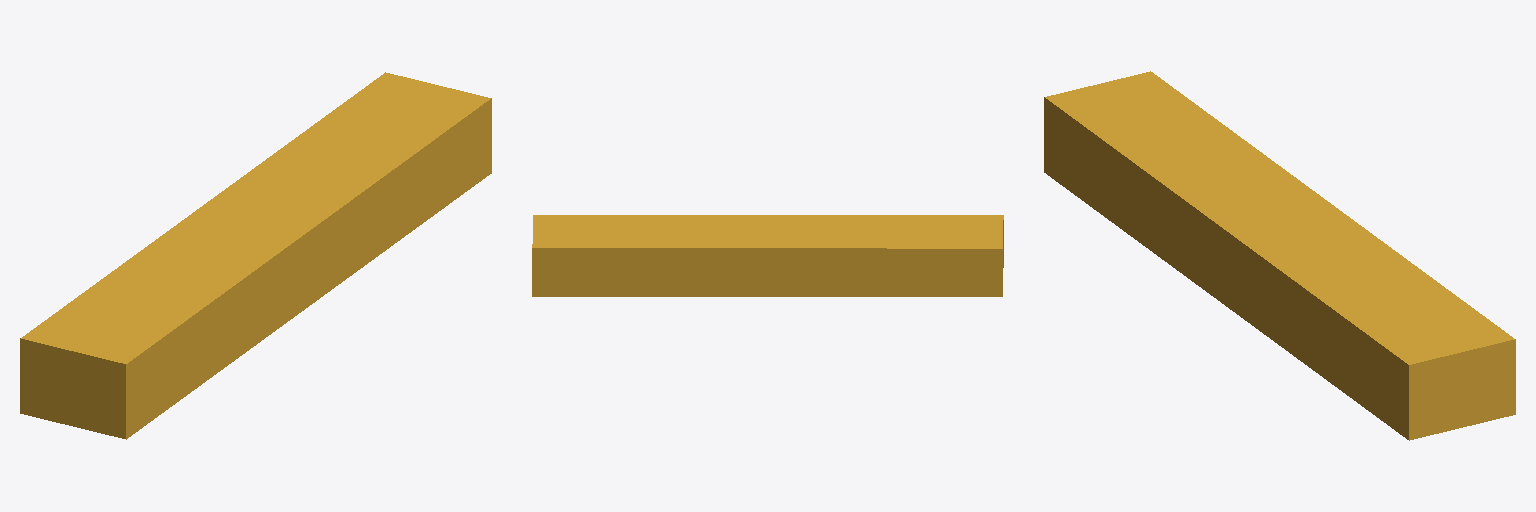
The robot description file, URDF, robot "Interference":
<?xml version="1.0"?>
<robot name="Interference">
  <link name="baseLink">
    <inertial>
      <origin xyz="0.0 0.0 0.0" rpy="0.0 0.0 0.0"/>
      <inertia ixx="0.0" ixy="0.0" ixz="0.0" iyy="0.0" iyz="0.0" izz="0.0"/>
      <mass value="0"/>
    </inertial>
    <visual>
      <origin xyz="0.0 0.0 0.0" rpy="0.0 0.0 -1.049125748128922"/>
      <geometry>
        <box size="0.014747479448727126 0.08772523397965275 0.01"/>
      </geometry>
      <material name="color">
        <color rgba="0.8861242961542795 0.6956143776255739 0.26711074138007285 1.0"/>
      </material>
    </visual>
  </link>
</robot>

--- What the picture shows (computed from the rendered views, not written in the file) ---
Views: 3 orthographic renders of the robot side by side, from view 1: azimuth 30°, elevation 25°; view 2: azimuth 150°, elevation 25°; view 3: azimuth 270°, elevation 25°.
Model Interference with 1 links and 0 joints (none), rooted at baseLink, posed all joints at 0.
Links seen in each view (by area): view 1: baseLink; view 2: baseLink; view 3: baseLink.
Boxes of the visible links, bbox=[...] form: baseLink: bbox=[20, 72, 491, 439]; baseLink: bbox=[532, 215, 1003, 296]; baseLink: bbox=[1044, 71, 1515, 440].
Size in the robot's own frame: 0.0834 by 0.0565 by 0.01 metres.
Geometry: primitives only (box / cylinder / sphere), no mesh files.